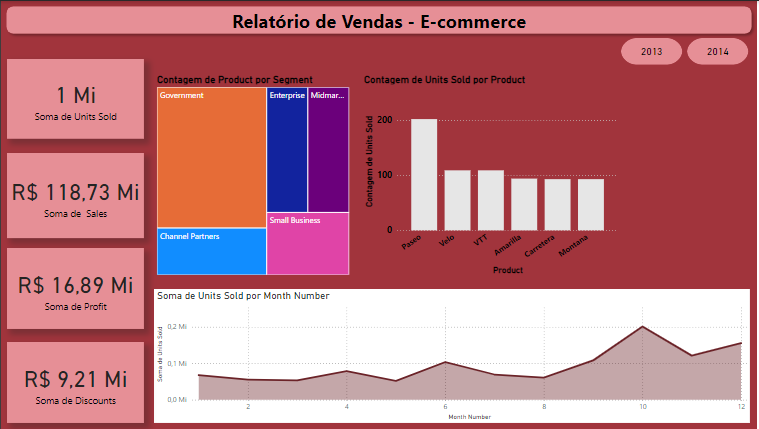

The page's visual inventory and layout, read from the dashboard file:
{"tool":"powerbi","page":{"name":"Página 1","canvas":[1280,720],"ordinal":0},"visuals":[{"type":"shape","box":[0,0,1269.9,720.6],"z":0},{"type":"shape","box":[0,0,1269.9,63.8],"z":1000},{"type":"card","fields":{"Values":["Sum(f_Vendas. Sales)"]},"box":[10.1,255.3,230.1,142.8],"z":2000},{"type":"card","fields":{"Values":["Sum(f_Vendas.Units Sold)"]},"box":[10.1,97.4,230.1,134.4],"z":3000},{"type":"card","fields":{"Values":["Sum(f_Vendas.Profit)"]},"box":[10.1,414.9,230.1,136.1],"z":4000},{"type":"lineChart","fields":{"Category":["d_Nova_Data.Month Number"],"Y":["Sum(f_Vendas.Units Sold)"]},"box":[257,483.8,1001.2,225.1],"z":5000},{"type":"treemap","fields":{"Group":["d_Categoria.Segment"],"Values":["CountNonNull(f_Vendas.Product)"]},"box":[257,120.9,332.6,344.4],"z":6000},{"type":"advancedSlicerVisual","fields":{"Values":["f_Vendas.Year"]},"box":[1036.4,57.1,225.1,55.4],"z":7000},{"type":"card","fields":{"Values":["Sum(d_Desconto.Discounts)"]},"box":[10.1,572.8,230.1,136.1],"z":8000},{"type":"clusteredColumnChart","fields":{"Y":["CountNonNull(f_Vendas.Units Sold)"],"Category":["f_Vendas.Product"]},"box":[604.7,120.9,436.7,344.4],"z":8001}]}

Visuals, with their boxes in screenshot pixels (x1, y1, x2, y2), scaled from the page's 1280x720 canvas onto the 759x429 screenshot:
shape: box=[0, 0, 753, 428]
shape: box=[0, 0, 753, 38]
card - Sum(f_Vendas. Sales): box=[6, 152, 142, 237]
card - Sum(f_Vendas.Units Sold): box=[6, 58, 142, 138]
card - Sum(f_Vendas.Profit): box=[6, 247, 142, 328]
lineChart - d_Nova_Data.Month Number x Sum(f_Vendas.Units Sold): box=[152, 288, 746, 422]
treemap - d_Categoria.Segment x CountNonNull(f_Vendas.Product): box=[152, 72, 350, 277]
advancedSlicerVisual - f_Vendas.Year: box=[615, 34, 748, 67]
card - Sum(d_Desconto.Discounts): box=[6, 341, 142, 422]
clusteredColumnChart - CountNonNull(f_Vendas.Units Sold) x f_Vendas.Product: box=[359, 72, 618, 277]
